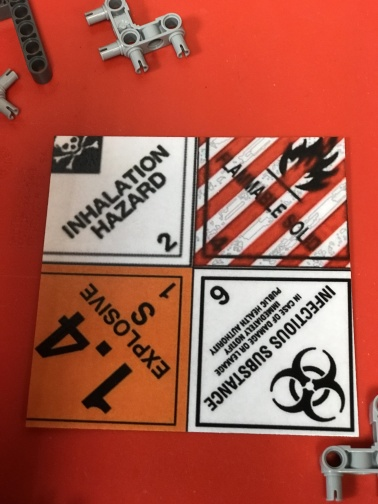Explosive: (27, 263, 192, 432)
FlammableSolid: (195, 135, 351, 269)
InfectiousSubstance: (192, 268, 361, 438)
InhalationHazard: (43, 135, 191, 263)
